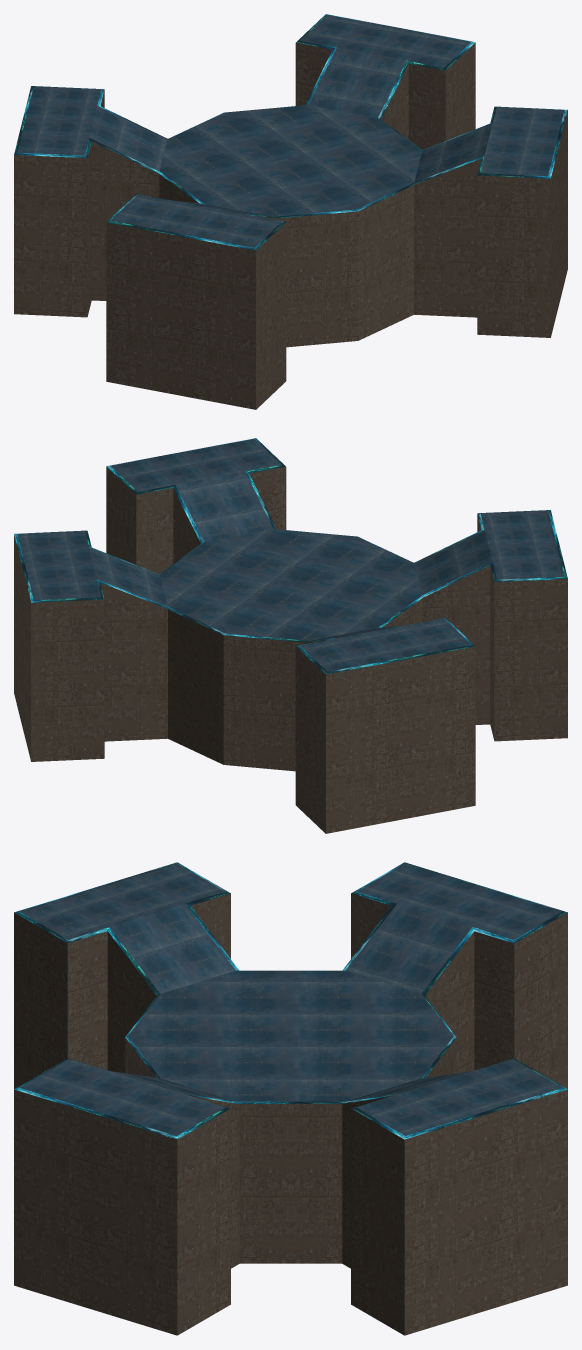
File: lobby.glb
The picture shows the model from 3 angles, top to bottom: view 1: azimuth 30°, elevation 25°; view 2: azimuth 150°, elevation 25°; view 3: azimuth 270°, elevation 25°; orthographic projection. The views are drawn at different scales.
Parts seen in each view (by area): view 1: Lobby, Banner; view 2: Lobby, Banner; view 3: Lobby, Banner.
Boxes of the visible parts, x1,y1,x2,y2 form: Lobby: (14,14,567,409); Banner: (14,14,567,250); Lobby: (14,438,567,833); Banner: (14,438,567,674); Lobby: (14,863,567,1335); Banner: (14,862,567,1139).
Size of the model in its own units: 109 by 36.19 by 91.73.
3 materials, 3 textured.
